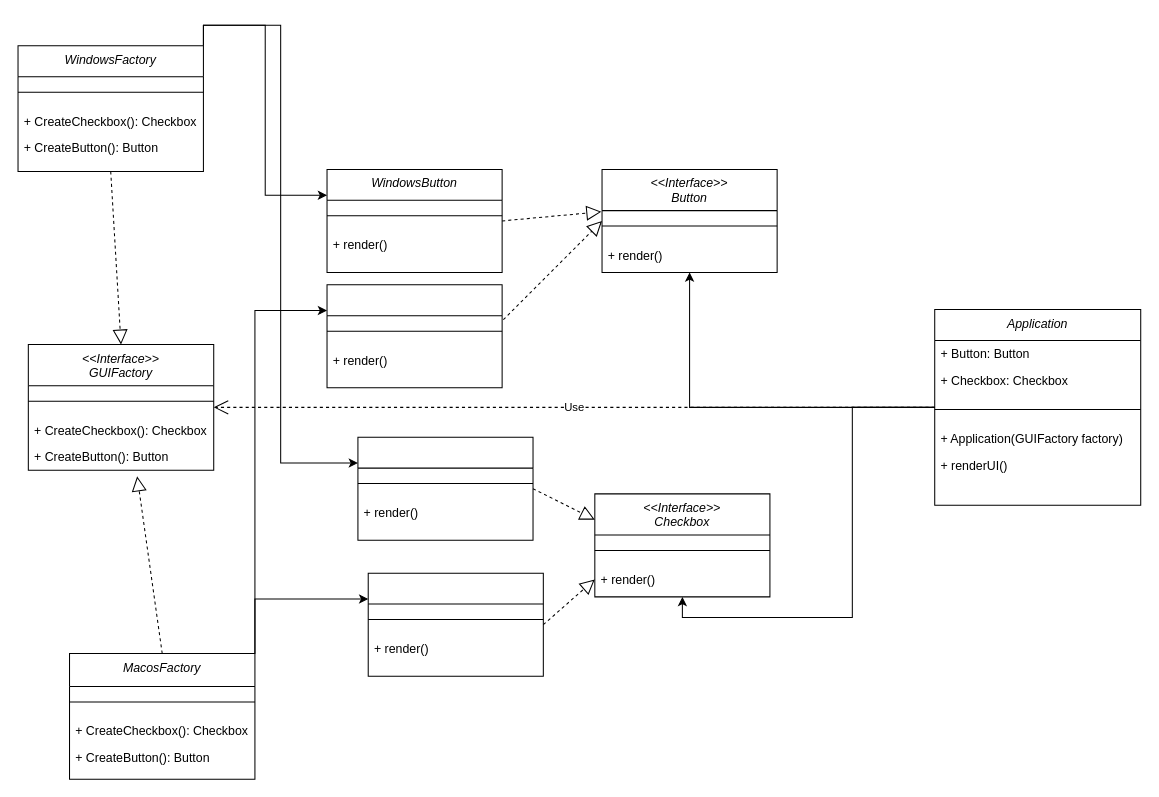
The diagram is 1159 pixels wide and 797 high, and some of its shapes have lost their labels. The shapes that lost their labels are listed below. From the top down, each one's box as (x1, y1, x2, y2) in pixels, then its label:
(326, 284, 502, 388): MacosButton
(357, 436, 533, 540): WindowsCheckbox
(367, 572, 543, 676): MacosCheckbox
